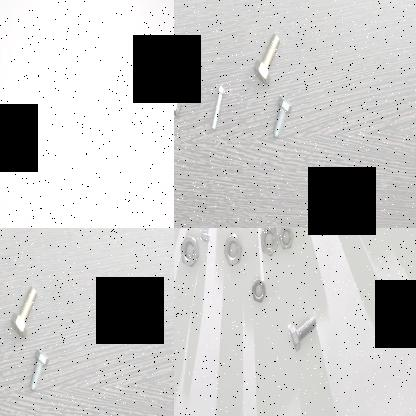Bolts: (7, 278, 43, 342), (283, 307, 318, 357), (252, 30, 280, 90), (25, 346, 50, 400), (269, 94, 293, 144), (210, 84, 230, 131), (174, 83, 184, 117), (199, 228, 219, 244)
NUTS: (223, 230, 244, 274), (178, 233, 199, 270), (259, 228, 277, 256), (251, 271, 265, 303), (278, 228, 295, 252)
